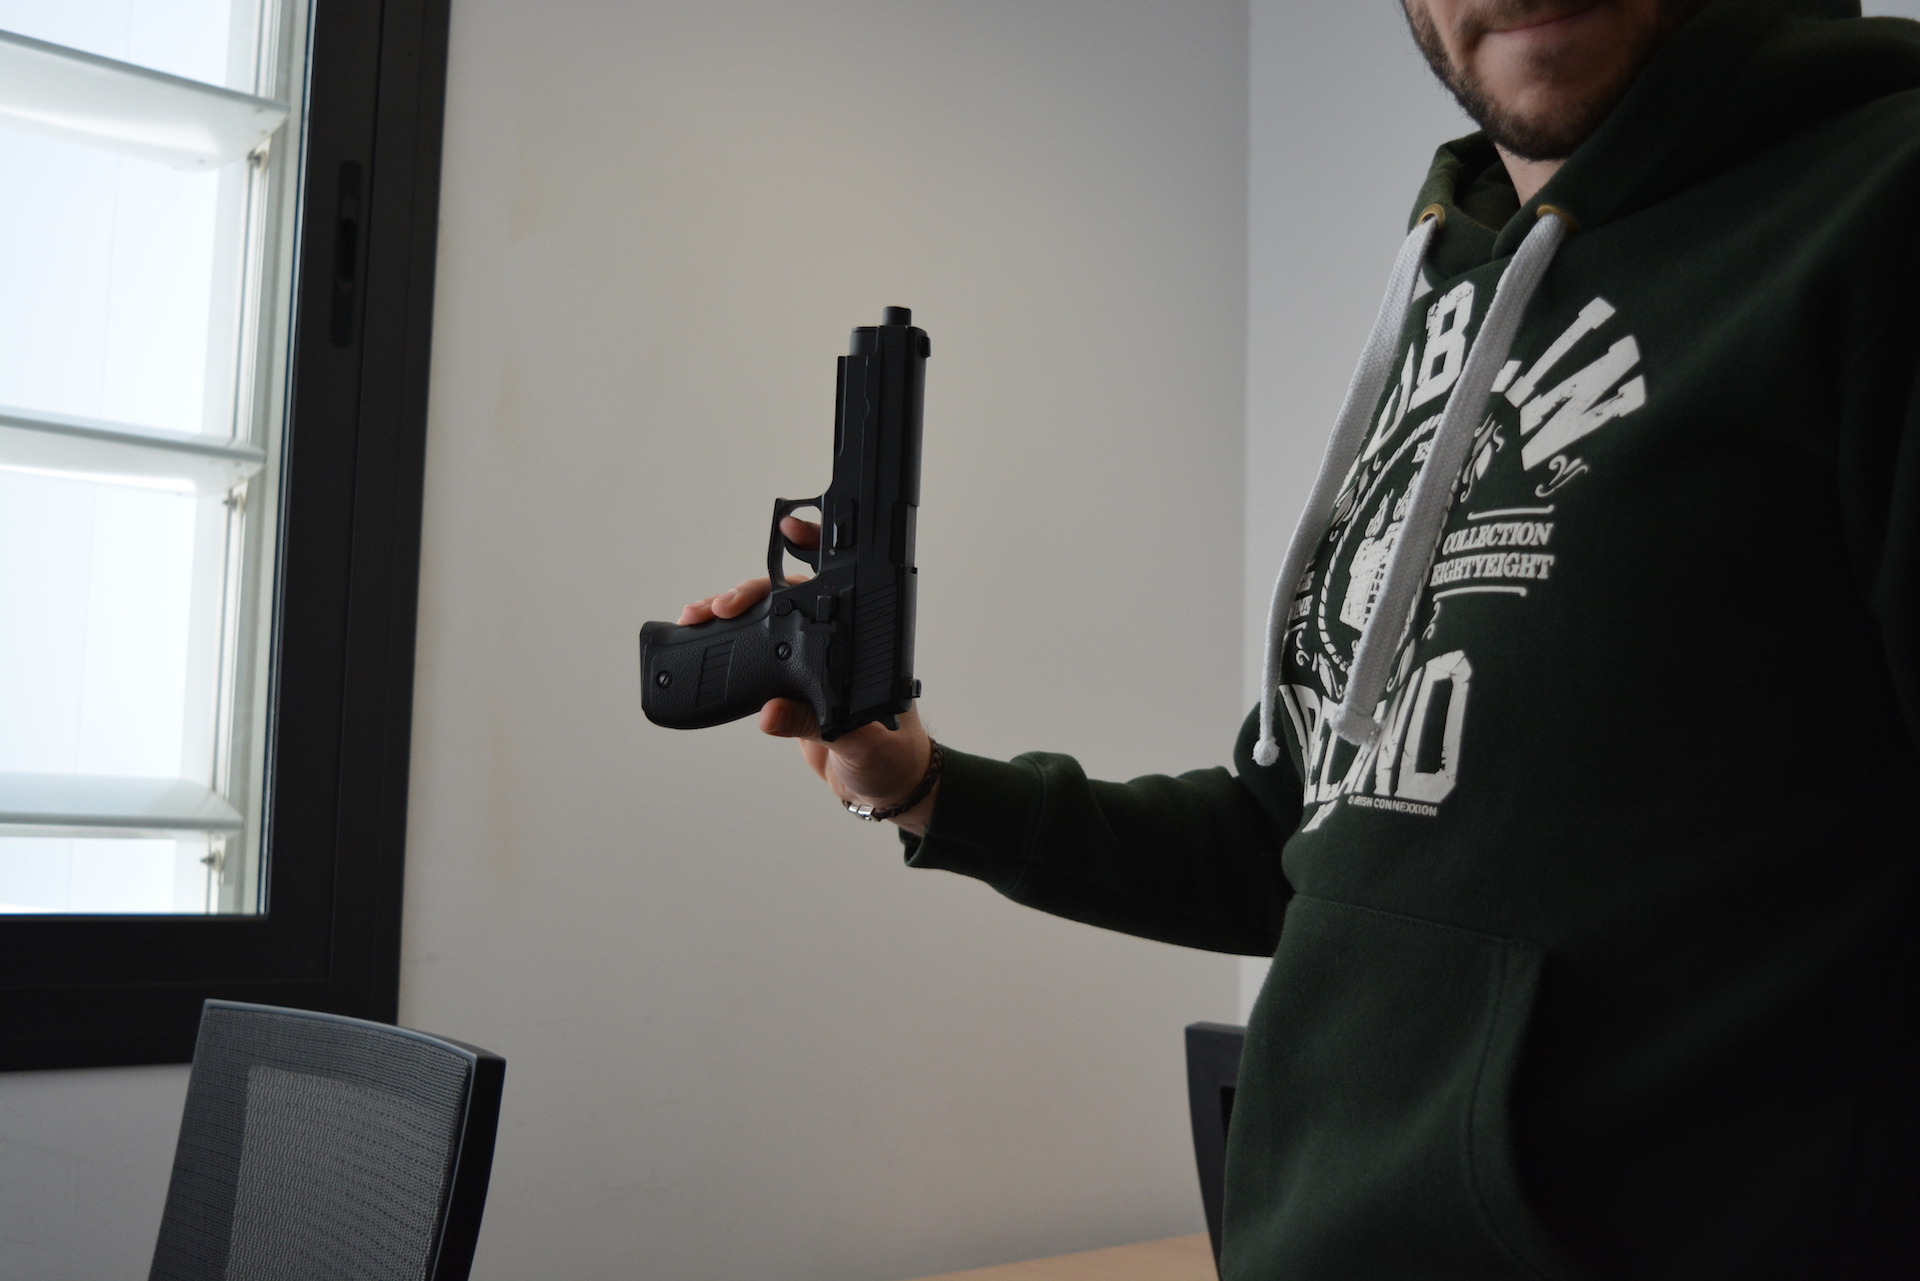pistol: (636, 302, 934, 746)
